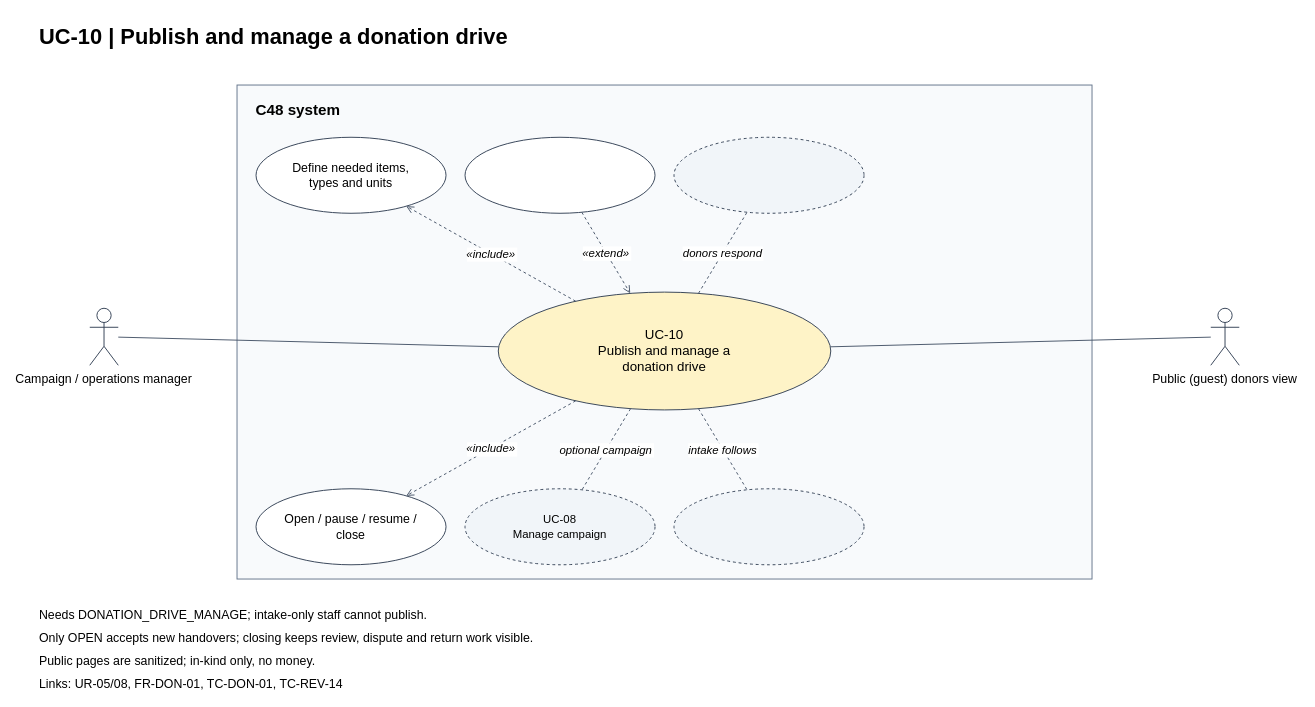
This 1315x707 diagram has some shape labels left out. Each missing label, with the centre of its shape:
"Link to campaign (optional)" belongs at pixel 559 174.
"UC-11 Declare handover and track" belongs at pixel 768 174.
"UC-12 Count, review, post receipt" belongs at pixel 768 526.
